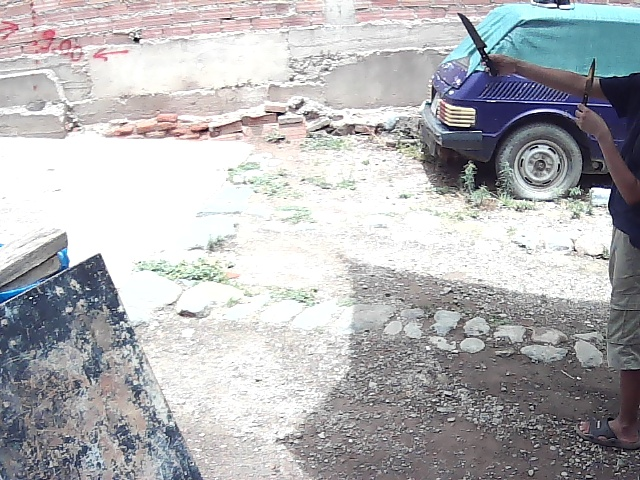cuchillo: (454, 8, 499, 80)
